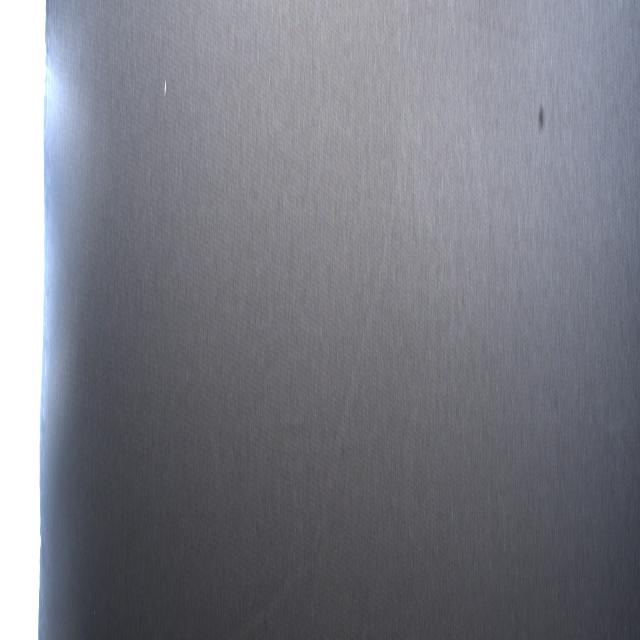crease: (321, 183, 400, 555), (256, 542, 314, 627)
whiteDefect: (163, 74, 167, 103)
